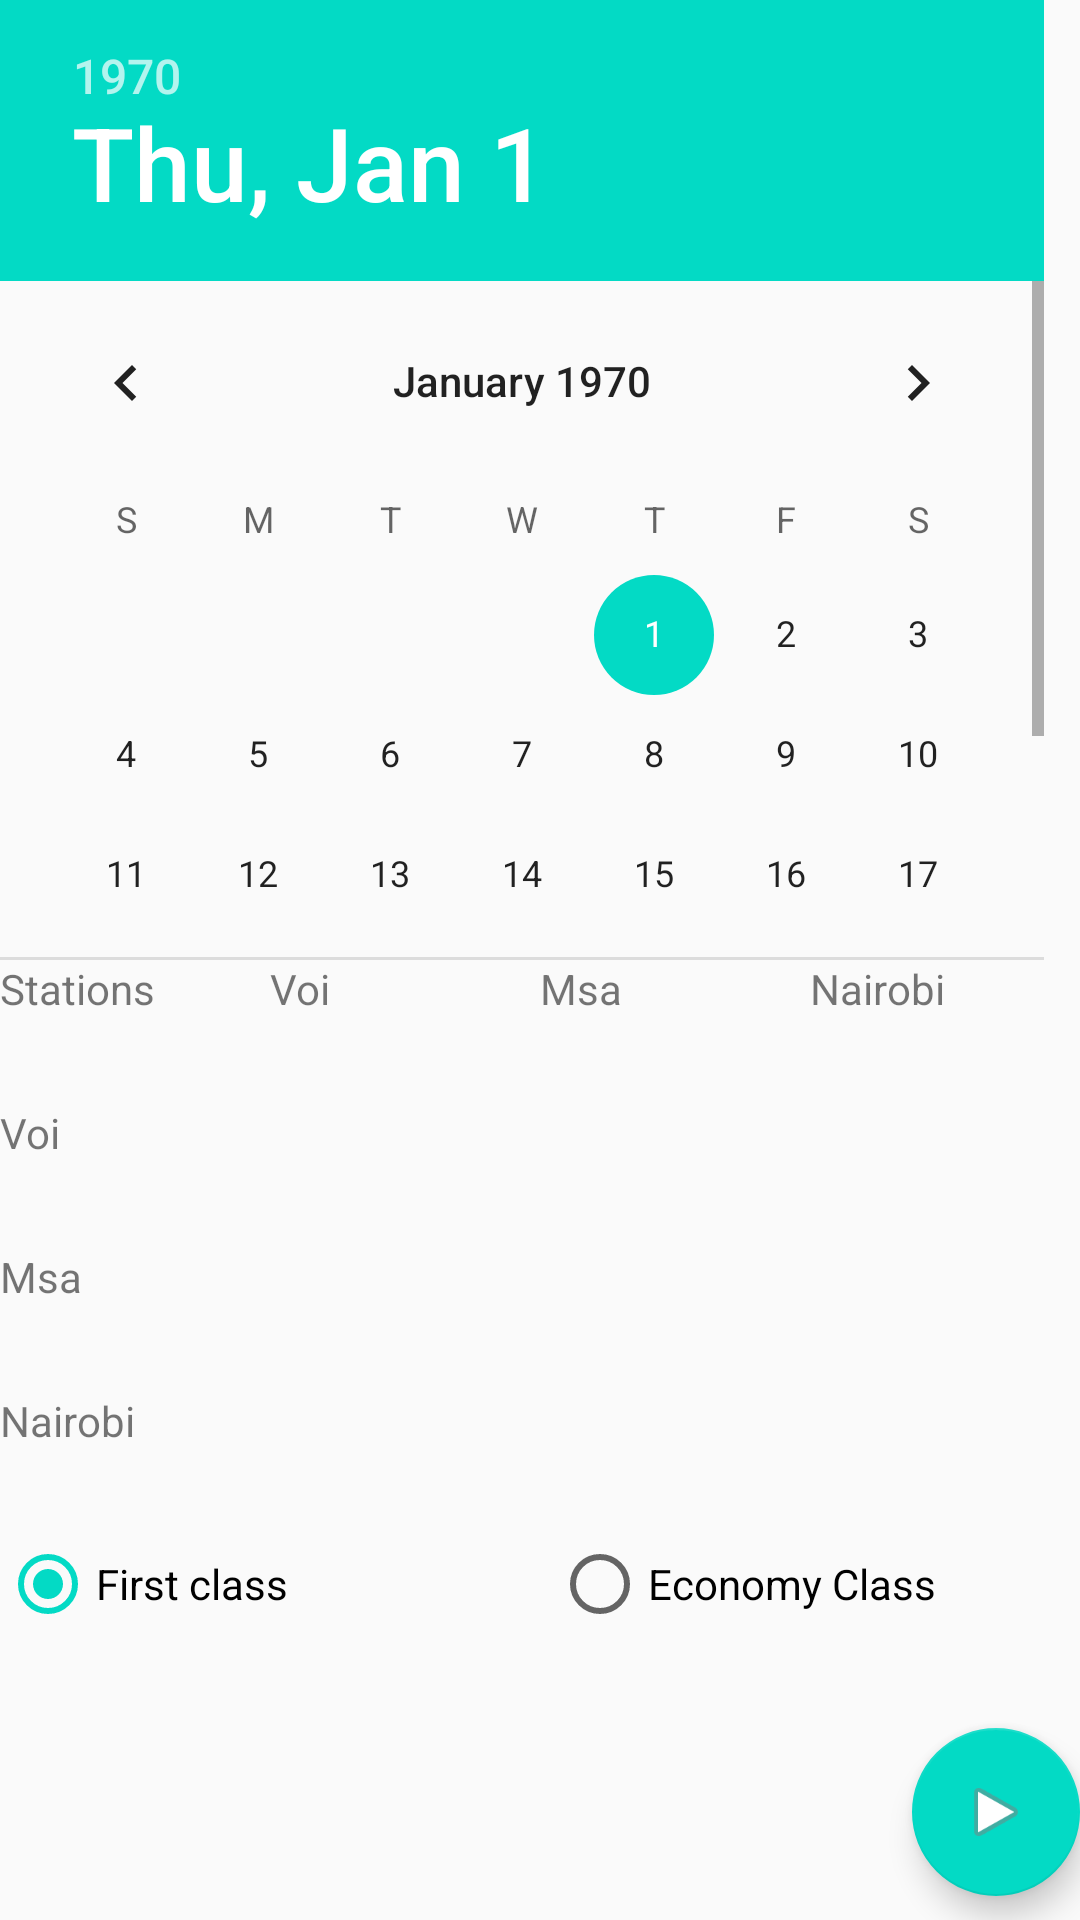

Point at icon controls on the screen. Image size 1080w x 1920h, points as (x,y).
play: (996,1812)
